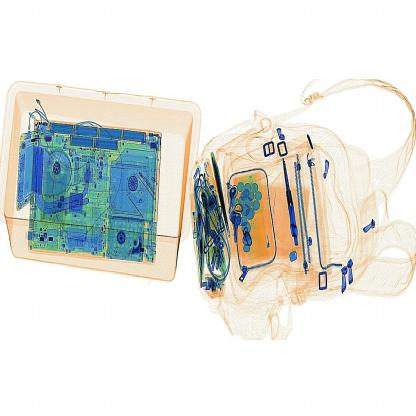gun: (277, 150, 308, 257)
